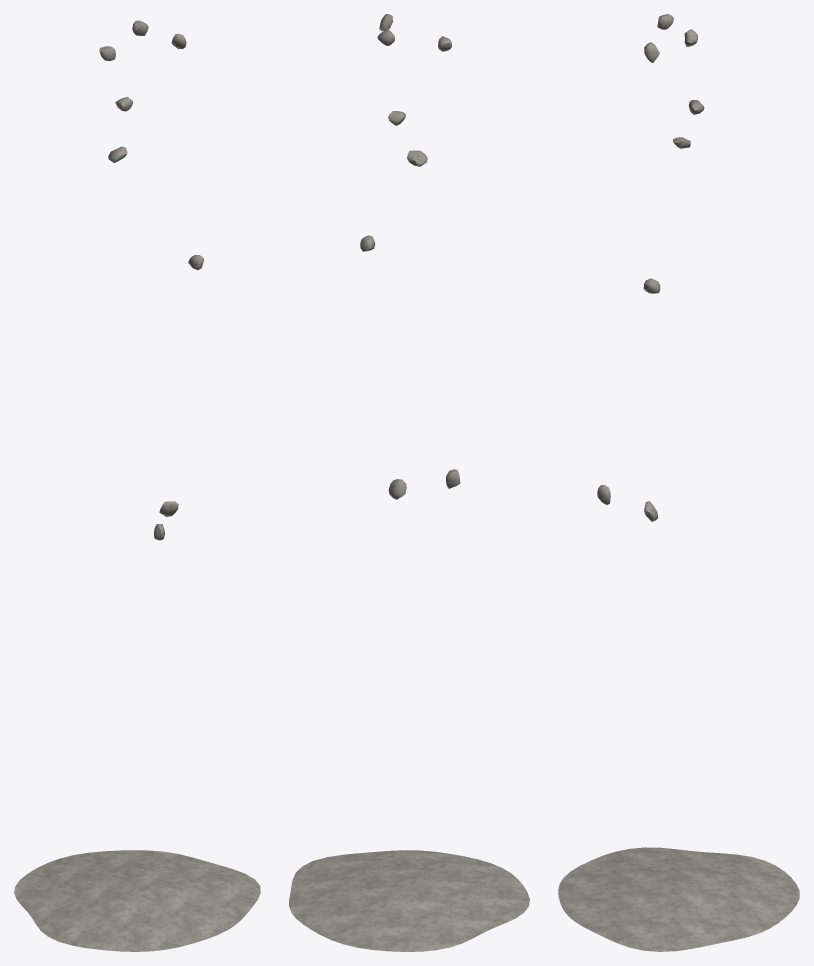
Rendered from ALV-AGR-008_anim.glb.
3 renders of one model, left to right at view 1: azimuth 30°, elevation 25°; view 2: azimuth 150°, elevation 25°; view 3: azimuth 270°, elevation 25°, orthographic.
Visible parts, largest first — view 1: ALV-AGR-008_anim_monte; view 2: ALV-AGR-008_anim_monte; view 3: ALV-AGR-008_anim_monte.
Boxes of the visible parts, x1,y1,x2,y2 form: ALV-AGR-008_anim_monte: [14, 850, 260, 951]; ALV-AGR-008_anim_monte: [289, 850, 529, 951]; ALV-AGR-008_anim_monte: [558, 847, 799, 951].
Bounding box in the file's own units: 0.2609 × 1.02 × 0.2549.
1 material, 1 textured.
